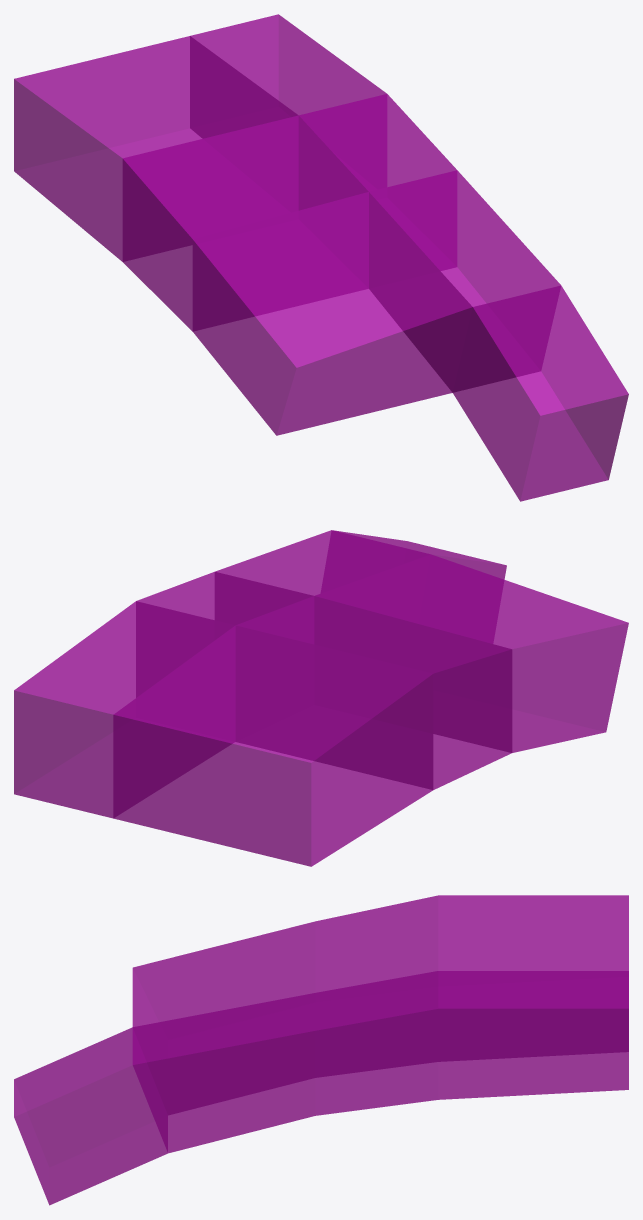
File: SM_Prop_Pipe_Damaged_01_Collision.fbx
3 renders of one model, top to bottom at view 1: azimuth 30°, elevation 25°; view 2: azimuth 150°, elevation 25°; view 3: azimuth 270°, elevation 25°, orthographic. The views are drawn at different scales.
Parts seen in each view (by area): view 1: SM_Prop_Pipe_Damaged_01_Collision; view 2: SM_Prop_Pipe_Damaged_01_Collision; view 3: SM_Prop_Pipe_Damaged_01_Collision.
Part boxes in pixels (left/top/right/bottom): SM_Prop_Pipe_Damaged_01_Collision: left=14, top=14, right=628, bottom=501; SM_Prop_Pipe_Damaged_01_Collision: left=14, top=530, right=628, bottom=866; SM_Prop_Pipe_Damaged_01_Collision: left=14, top=895, right=628, bottom=1205.
Bounding box in the file's own units: 43.37 × 35.1 × 99.42.
